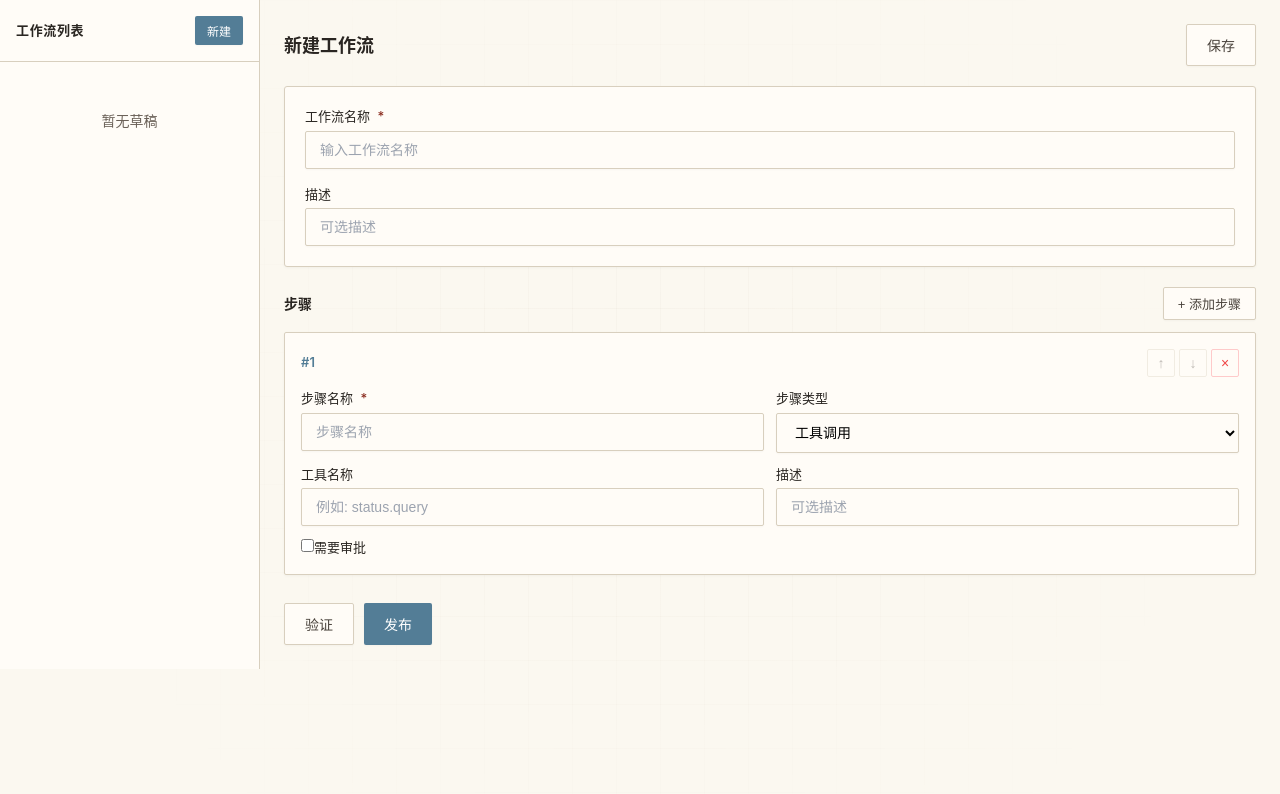
WorkflowsTab › adds and removes steps
The image size is (1280, 794).
Check: the element with test id "workflow-step-0" is shown, box [284,332,1256,574]
Click the button with test id "workflow-add-step" at (1209, 304), box [1163,287,1256,320]
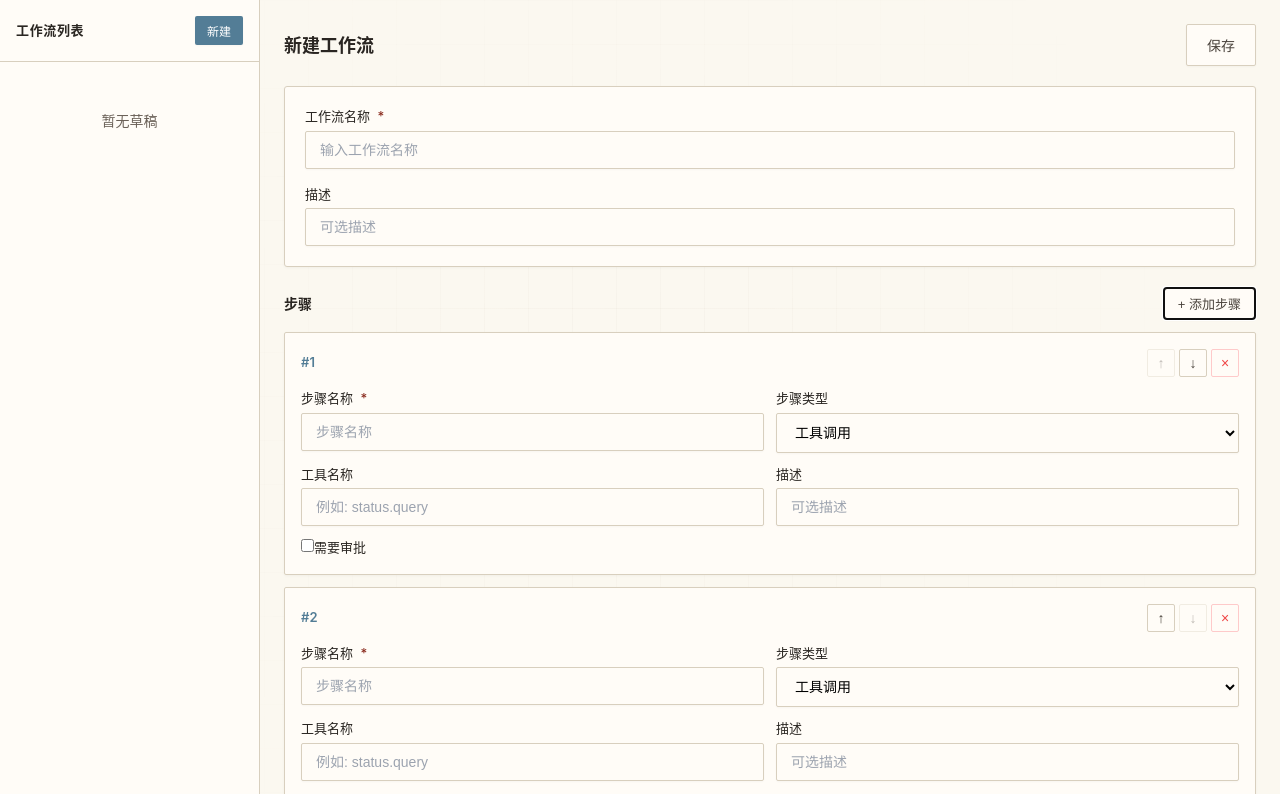
Click the button with test id "workflow-step-remove-0" at (1225, 363), box [1211,349,1239,377]
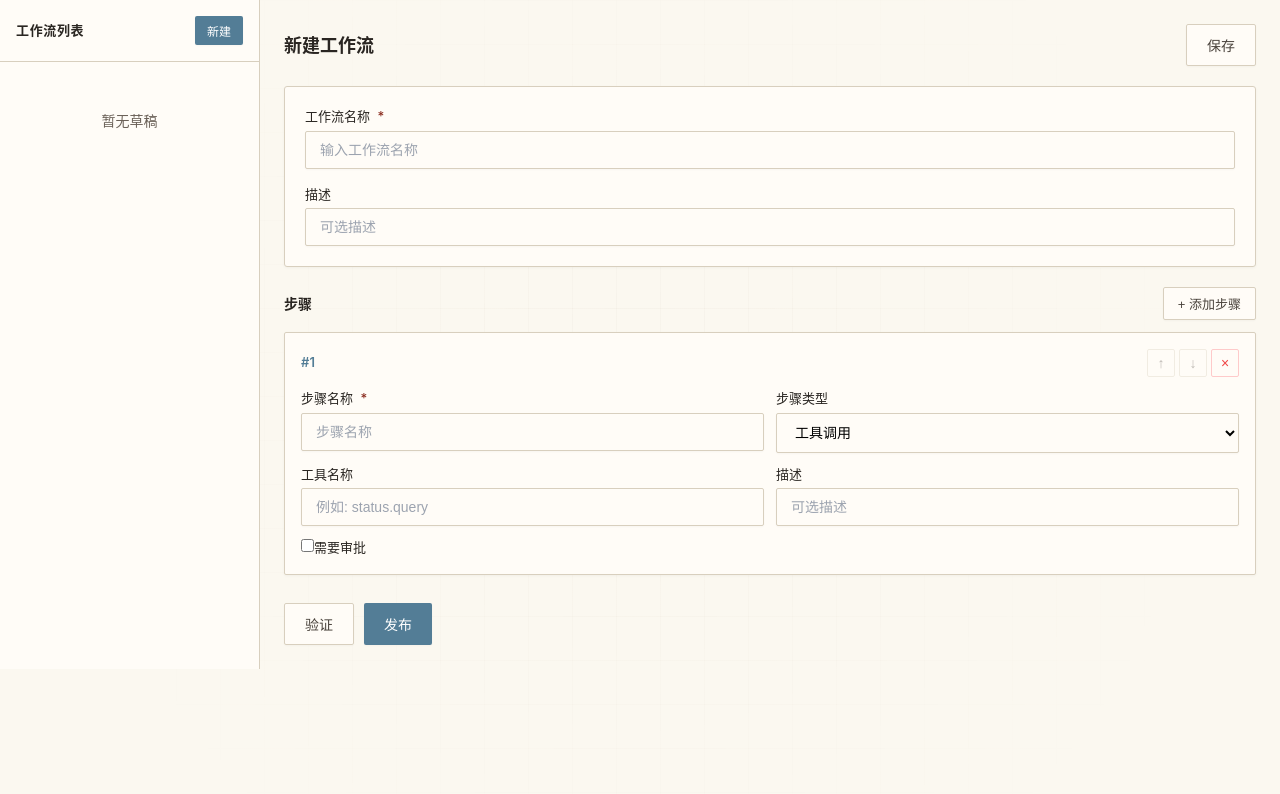
Check: the element with test id "workflow-step-0" is shown, box [284,332,1256,574]
